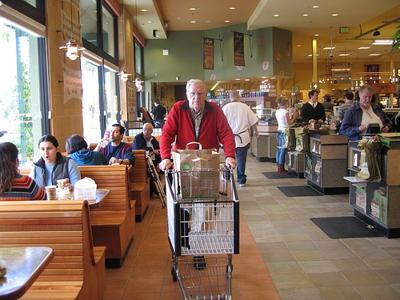person: (158, 77, 241, 271)
